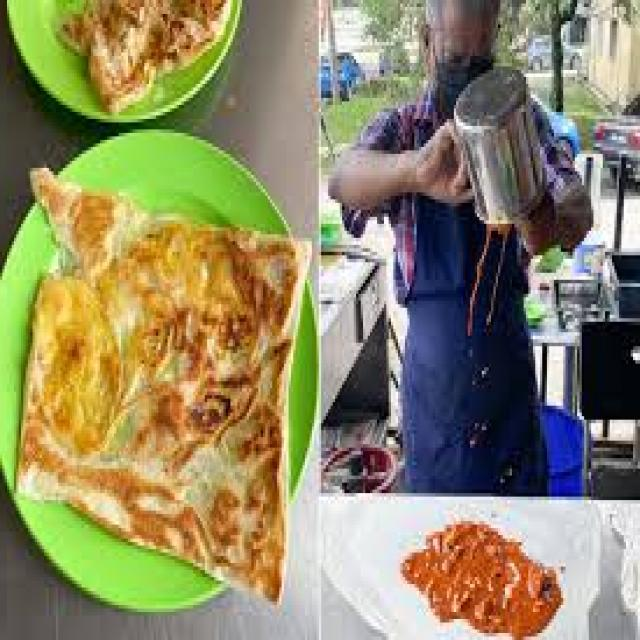Paratha: (10, 231, 306, 582), (46, 8, 226, 130)
